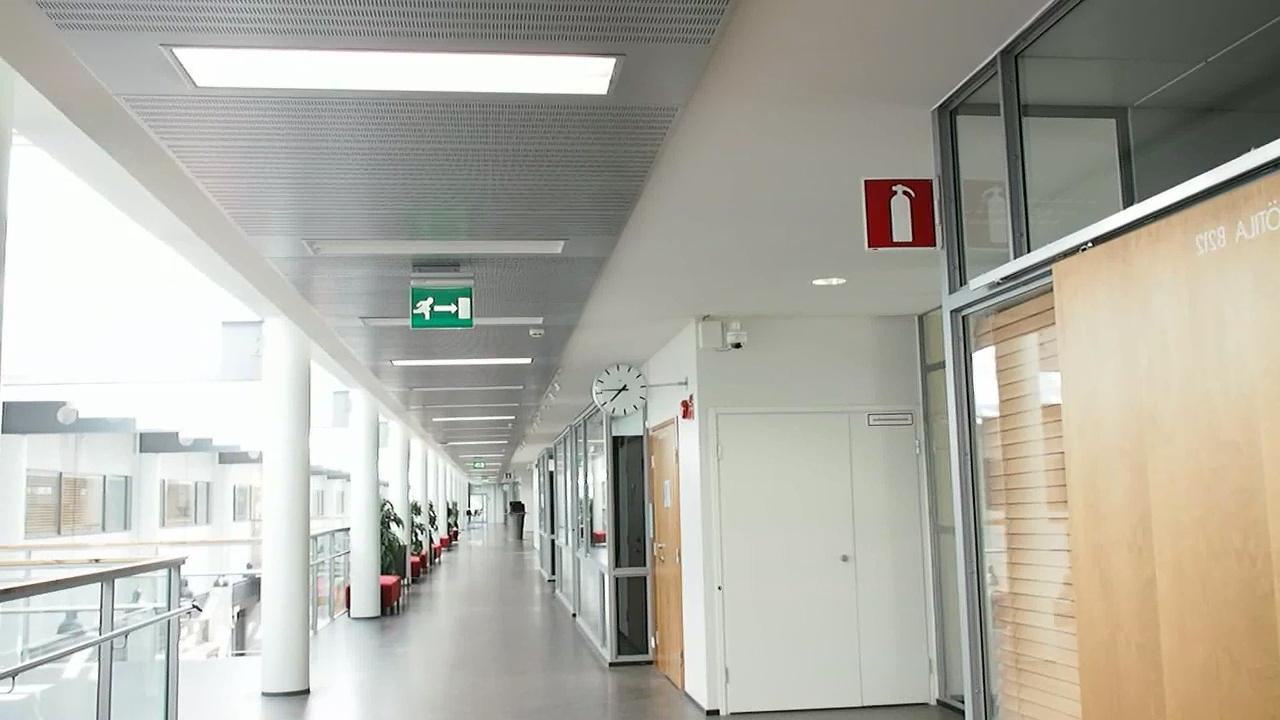clock: (589, 359, 654, 422)
exit: (403, 284, 473, 333)
fireextinguisher: (870, 172, 939, 249)
